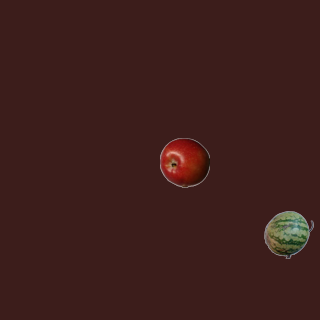Apple Braeburn: (159, 137, 209, 187)
Watermelon: (263, 209, 313, 259)
